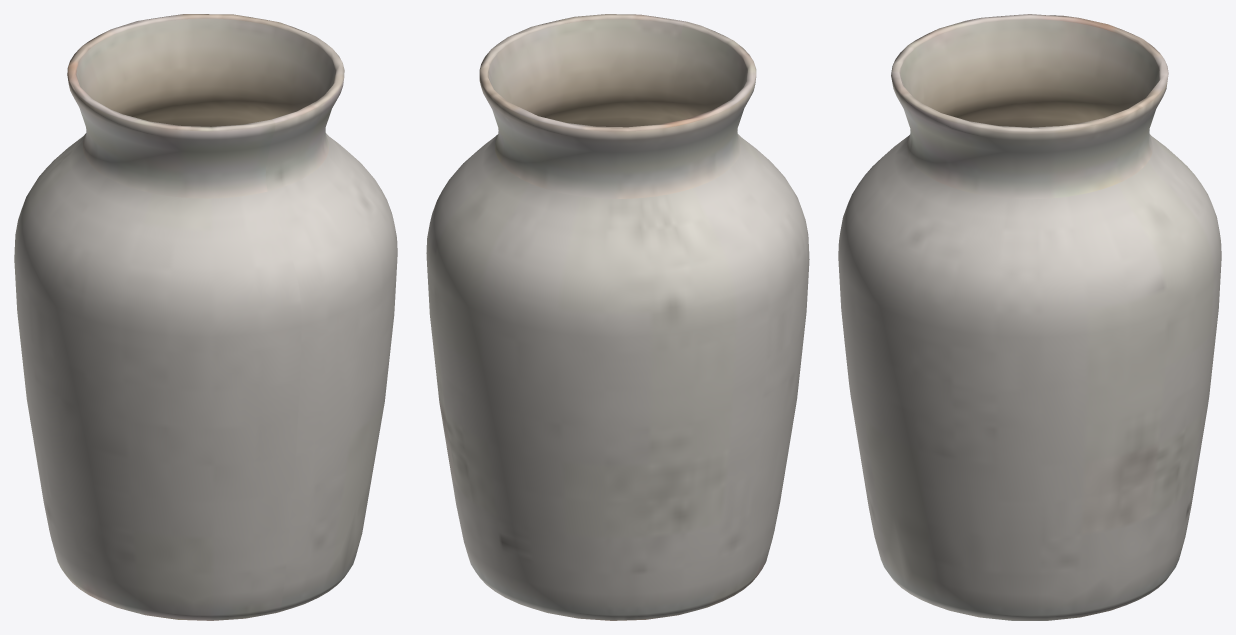
Rendered from vase-ceramic-02.lite.202d7a73.glb.
3 renders of one model, left to right at view 1: azimuth 30°, elevation 25°; view 2: azimuth 150°, elevation 25°; view 3: azimuth 270°, elevation 25°, orthographic.
Parts seen in each view (by area): view 1: model; view 2: model; view 3: model.
Boxes of the visible parts, x1=… form: model: x1=14, y1=14, x2=397, y2=620; model: x1=426, y1=14, x2=809, y2=620; model: x1=838, y1=14, x2=1221, y2=620.
Bounding box in the file's own units: 0.2184 × 0.3091 × 0.2184.
1 material, 1 textured.
